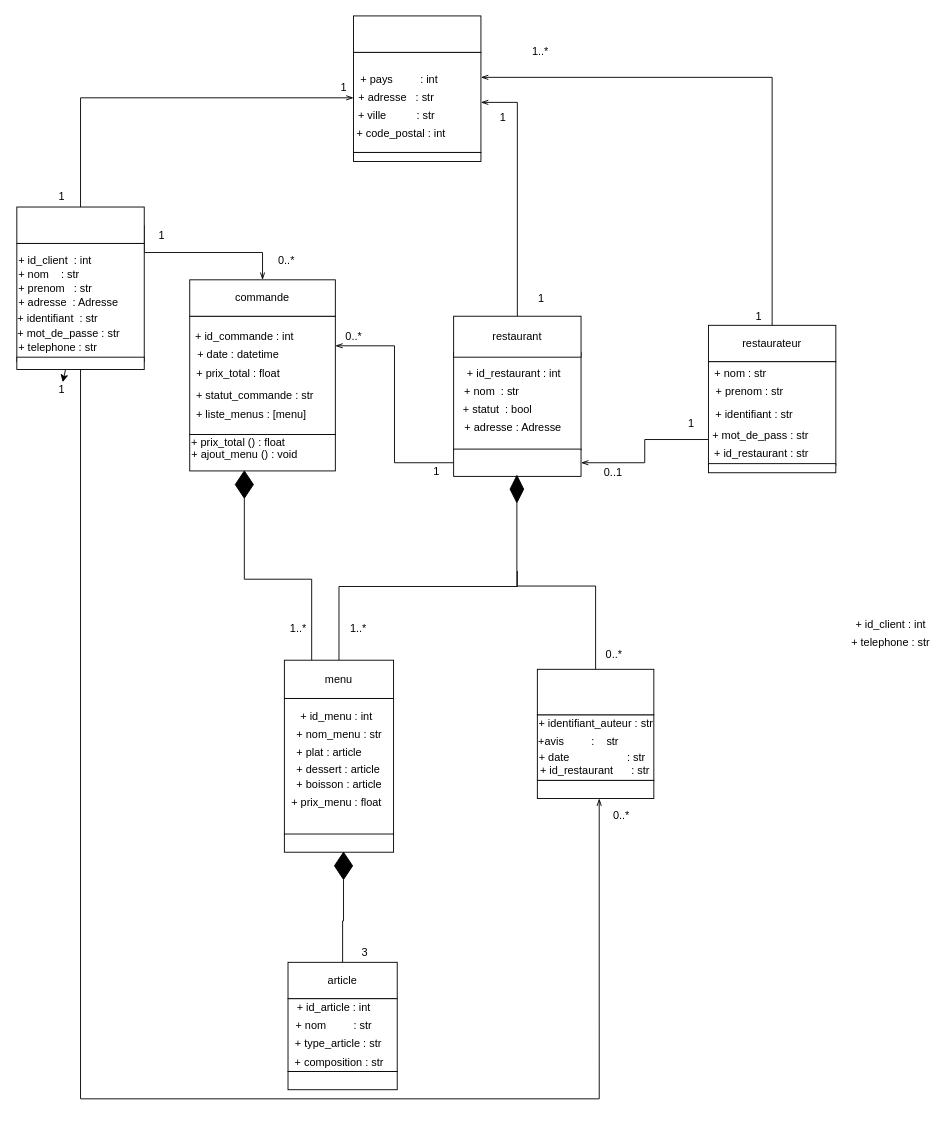
Image size: 952x1122. Some labels were removed from this diagram. The centre of each missing label's shape, as x and y in pixels:
"adresse" belongs at (x=417, y=33).
"avis" belongs at (x=595, y=691).
"client" belongs at (x=80, y=224).
